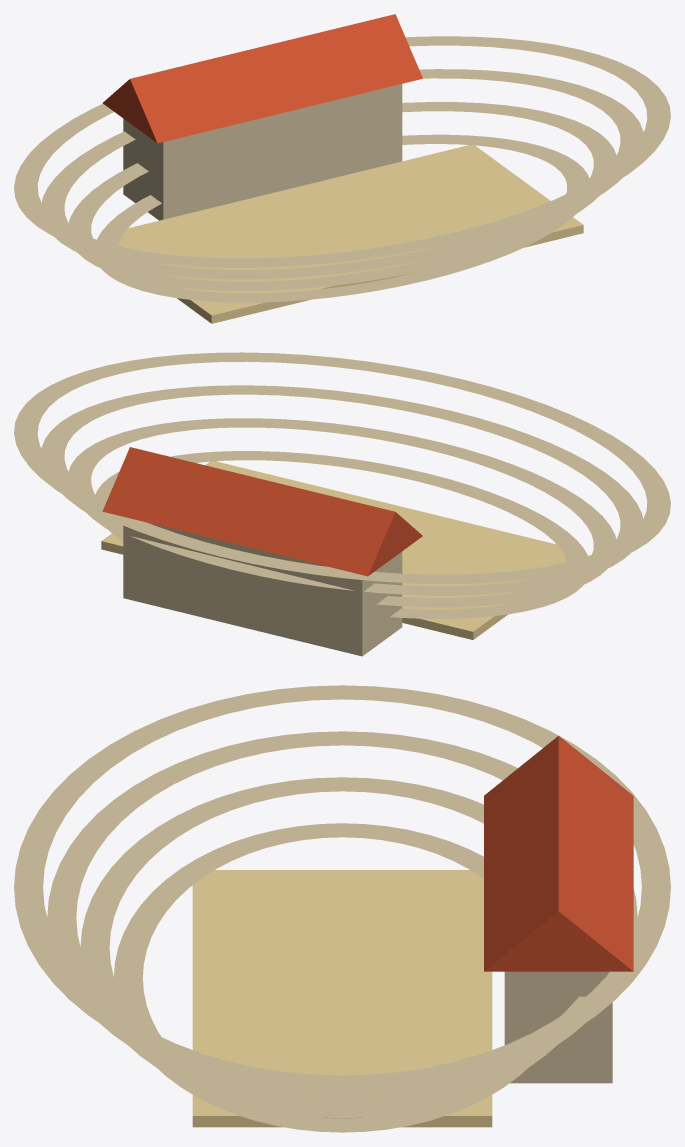
The model's file is building_amphitheater.fbx.
3 views of the same model, one above another, from view 1: azimuth 30°, elevation 25°; view 2: azimuth 150°, elevation 25°; view 3: azimuth 270°, elevation 25° (orthographic). The views are drawn at different scales.
Visible parts, largest first — view 1: building_amphitheater; view 2: building_amphitheater; view 3: building_amphitheater.
Boxes of the visible parts, bbox=[...] form: building_amphitheater: bbox=[14, 14, 670, 323]; building_amphitheater: bbox=[14, 352, 670, 656]; building_amphitheater: bbox=[14, 685, 670, 1132].
Bounding box in the file's own units: 115 × 24 × 79.
